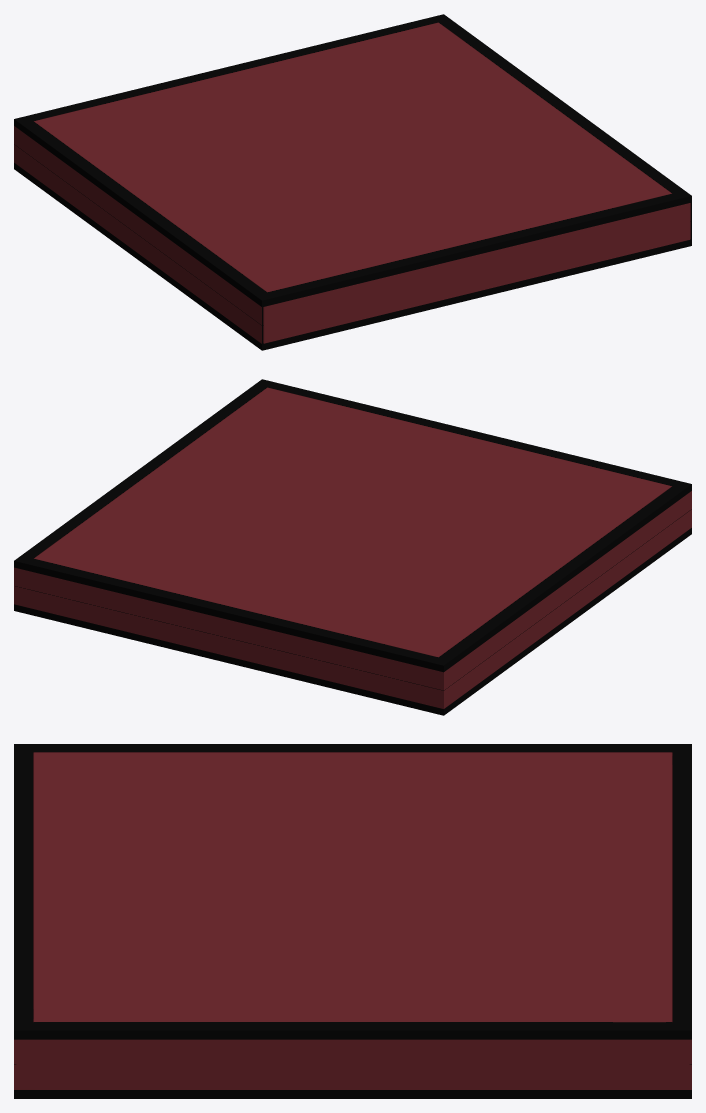
File: BoardTile.fbx
3 views of the same model, one above another, from view 1: azimuth 30°, elevation 25°; view 2: azimuth 150°, elevation 25°; view 3: azimuth 270°, elevation 25° (orthographic). The views are drawn at different scales.
Parts seen in each view (by area): view 1: Cube; view 2: Cube; view 3: Cube.
Boxes of the visible parts, bbox=[...] form: Cube: bbox=[14, 14, 691, 350]; Cube: bbox=[14, 379, 691, 715]; Cube: bbox=[14, 744, 691, 1098].
Size of the model in its own units: 225 by 25 by 225.
Materials: 1 (1 with a texture image).
